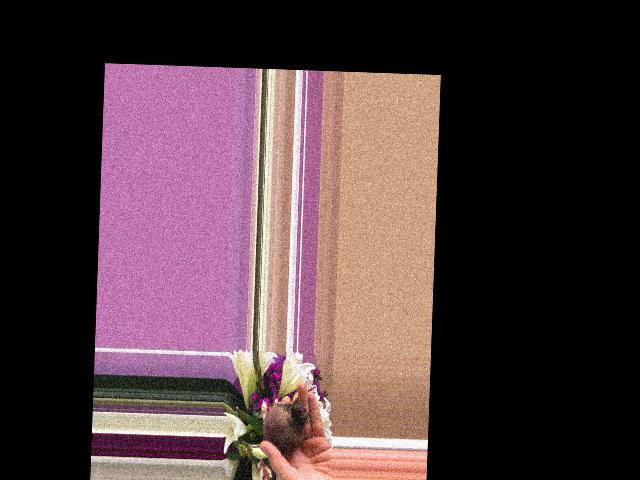beet: (241, 398, 306, 456)
